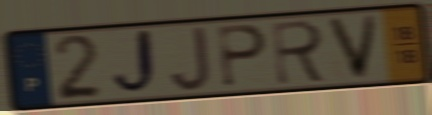2: (51, 33, 106, 103)
J: (108, 26, 160, 99), (168, 24, 213, 94)
P: (216, 22, 270, 89)
R: (270, 17, 330, 87)
V: (323, 12, 382, 83)
